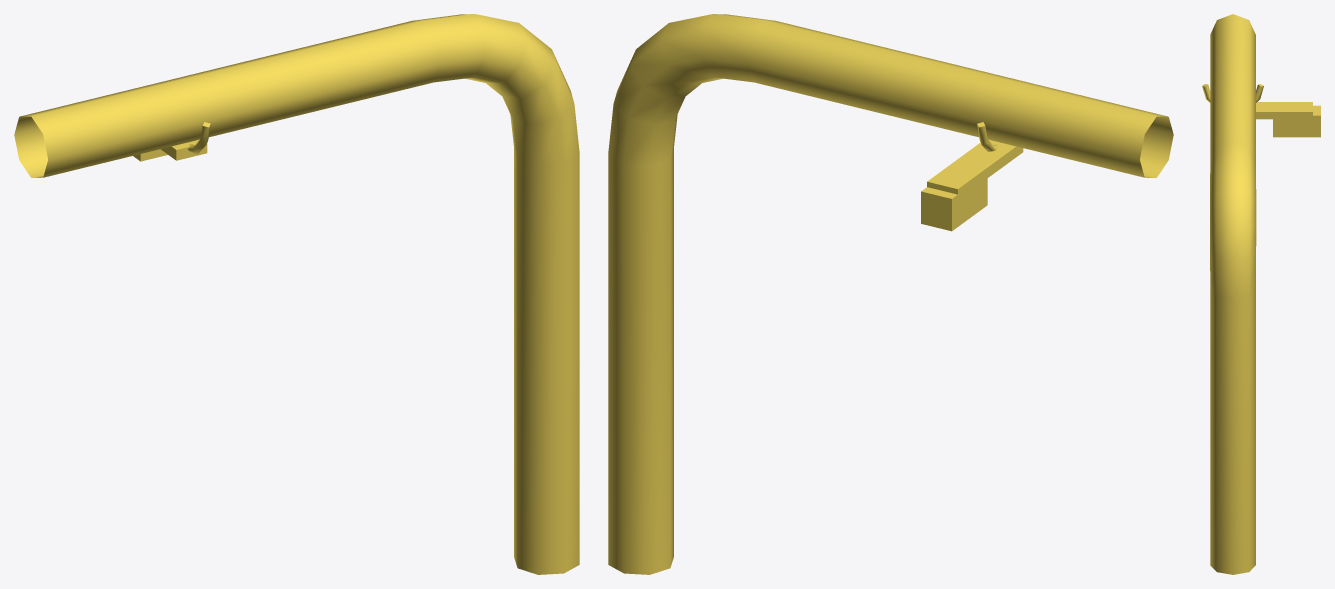
The model's file is gas_pipe_elbow.glb.
3 renders of one model, left to right at view 1: azimuth 30°, elevation 25°; view 2: azimuth 150°, elevation 25°; view 3: azimuth 270°, elevation 25°, orthographic. The views are drawn at different scales.
Parts seen in each view (by area): view 1: gas_pipe_elbow; view 2: gas_pipe_elbow; view 3: gas_pipe_elbow.
Part boxes in pixels (x1,y1,x2,y2): gas_pipe_elbow: [14, 14, 579, 574]; gas_pipe_elbow: [608, 14, 1173, 574]; gas_pipe_elbow: [1202, 14, 1320, 574].
Bounding box in the file's own units: 0.5285 × 0.5285 × 0.1489.
